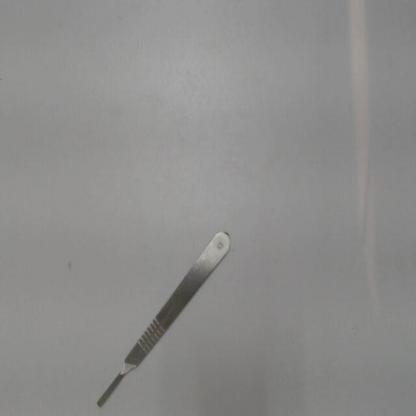No.4 BP Handle: (88, 219, 244, 415)
